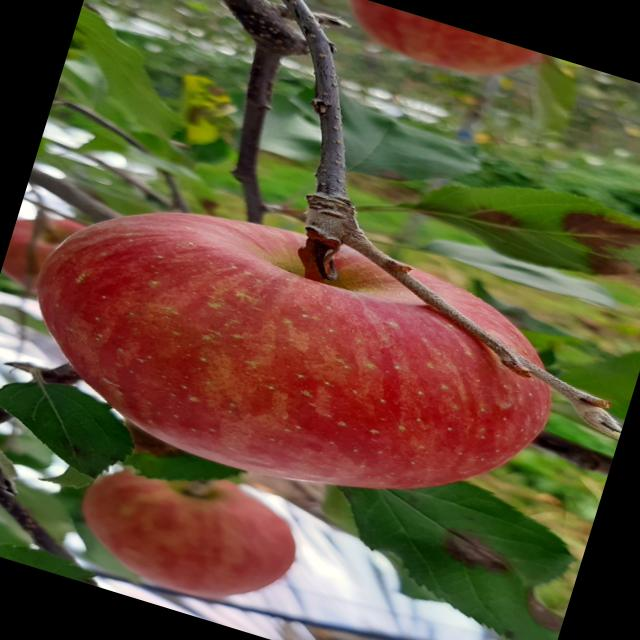fresh: (1, 151, 590, 558)
